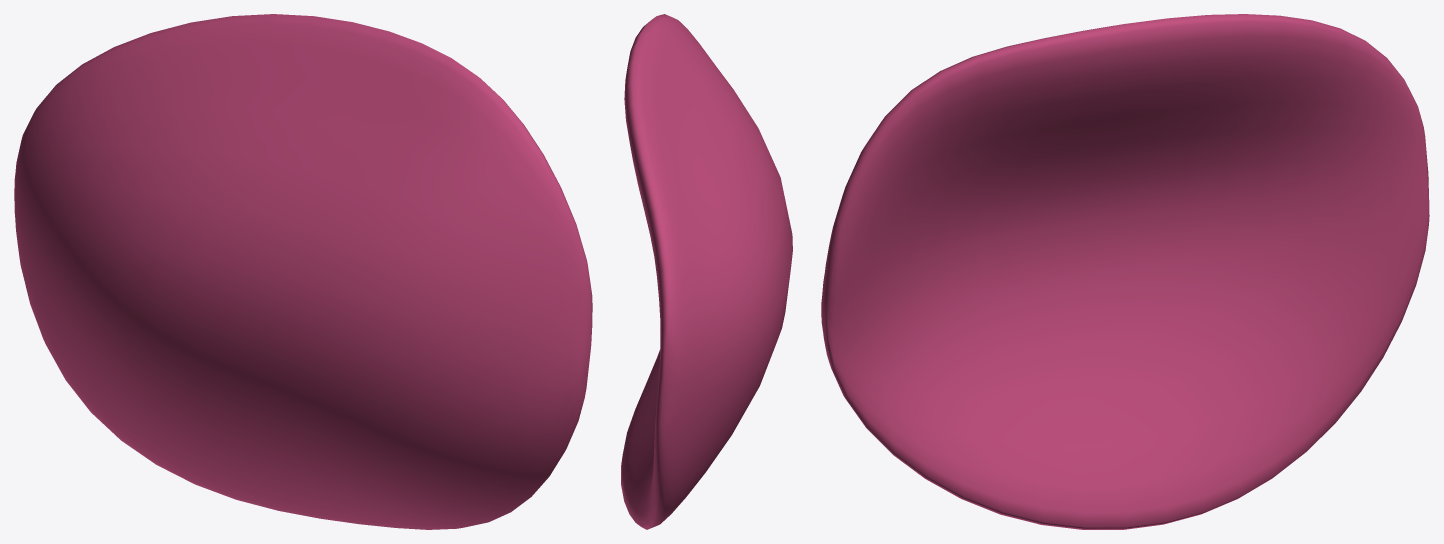
3 renders of one model, left to right at view 1: azimuth 30°, elevation 25°; view 2: azimuth 150°, elevation 25°; view 3: azimuth 270°, elevation 25°, orthographic. The views are drawn at different scales.
Visible parts, largest first — view 1: 右侧臀小肌转子囊; view 2: 右侧臀小肌转子囊; view 3: 右侧臀小肌转子囊.
Boxes of the visible parts, box(x1,y1,x2,y2) form: 右侧臀小肌转子囊: box(14, 14, 592, 529); 右侧臀小肌转子囊: box(621, 14, 792, 529); 右侧臀小肌转子囊: box(821, 14, 1429, 529).
Size of the model in its own units: 0.0172 by 0.0279 by 0.0303.
